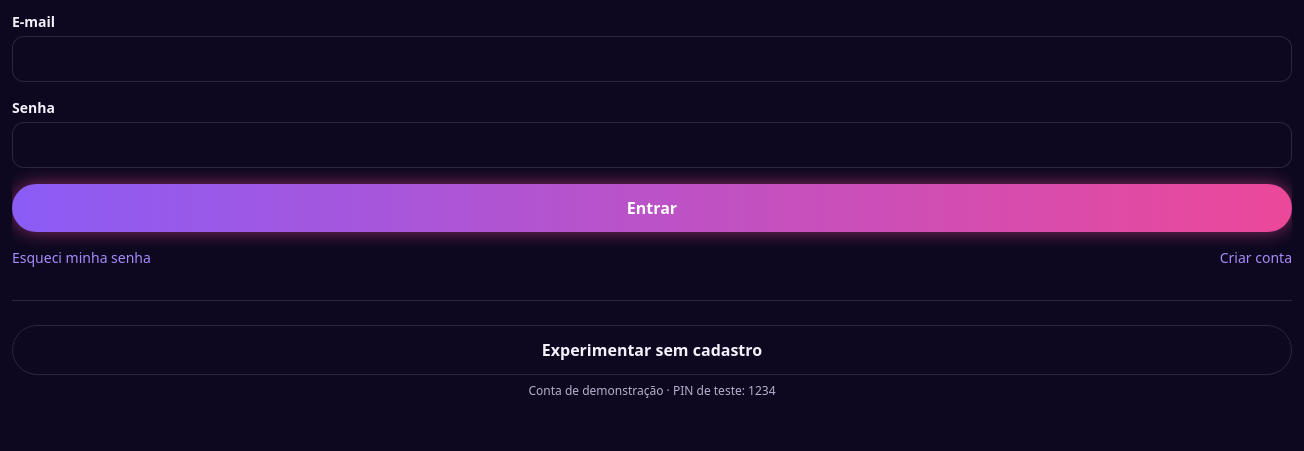
Scenario: Entrar › erro aparece ligado ao formulário
The width and height of the screenshot is (1304, 451).
Step 1. Type "ana@ex.com" into the field labelled "E-mail" → (652, 59), box [12,36,1292,82]
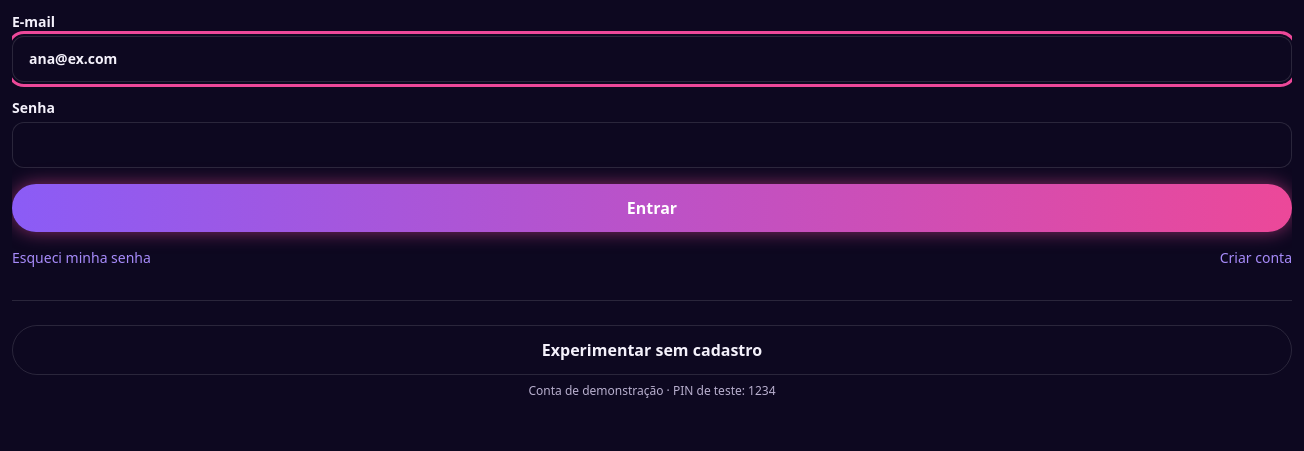
Step 2. Type "errada-123" into the password field labelled "Senha" → (652, 145), box [12,122,1292,168]
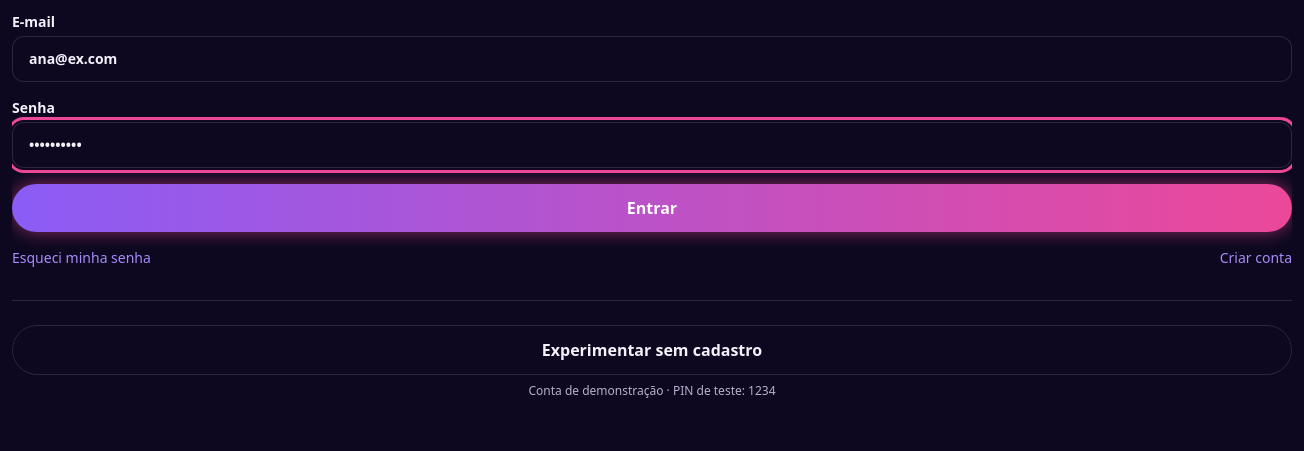
Step 3. Click the button "Entrar" → (652, 208), box [12,184,1292,232]
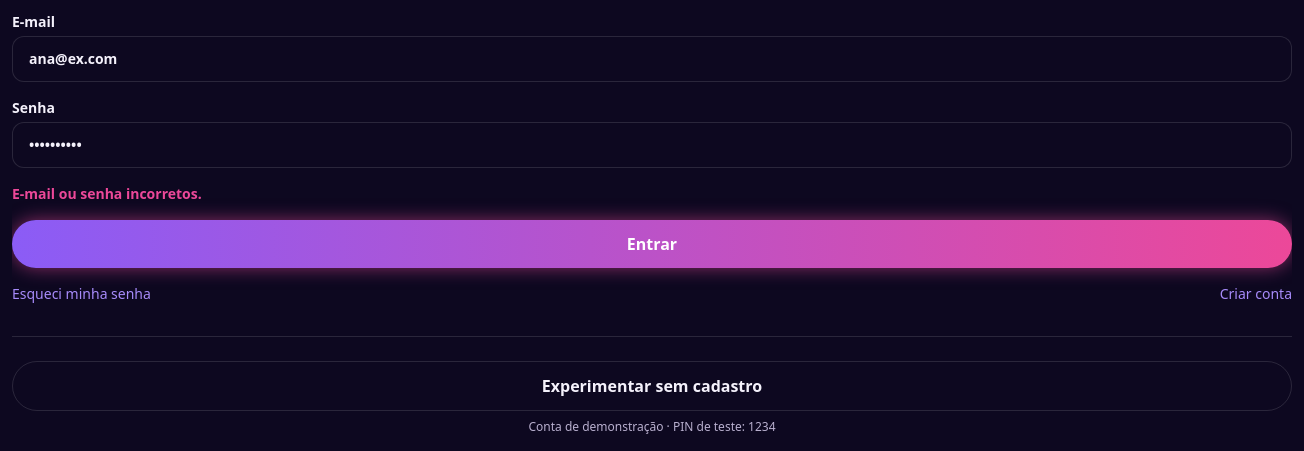
Now the message reads "E-mail ou senha incorretos.", box [12,184,202,203]
